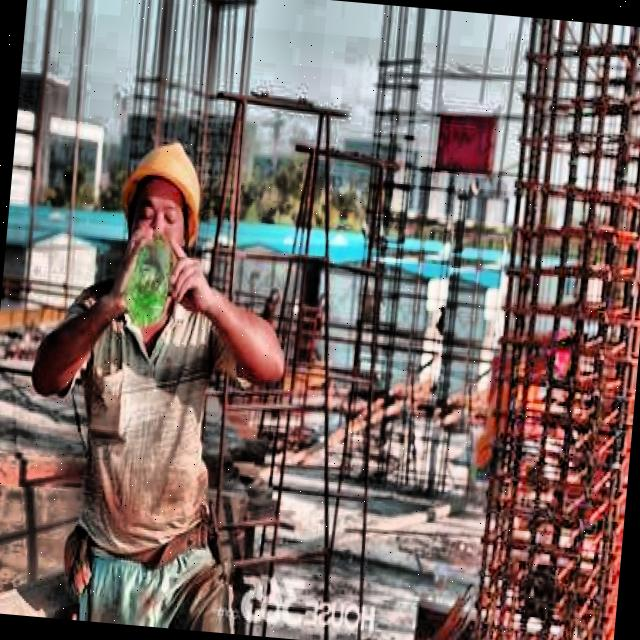helmet: (112, 123, 214, 271)
